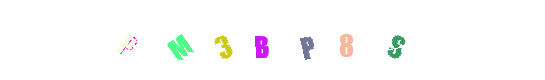3: (208, 0, 288, 80)
8: (298, 0, 378, 80)
B: (232, 0, 312, 80)
M: (184, 0, 264, 80)
P: (140, 0, 220, 80), (273, 0, 353, 80)
S: (356, 0, 436, 80)
